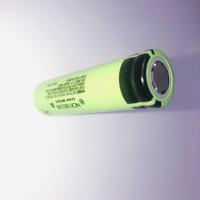Battery: (32, 48, 175, 117)
